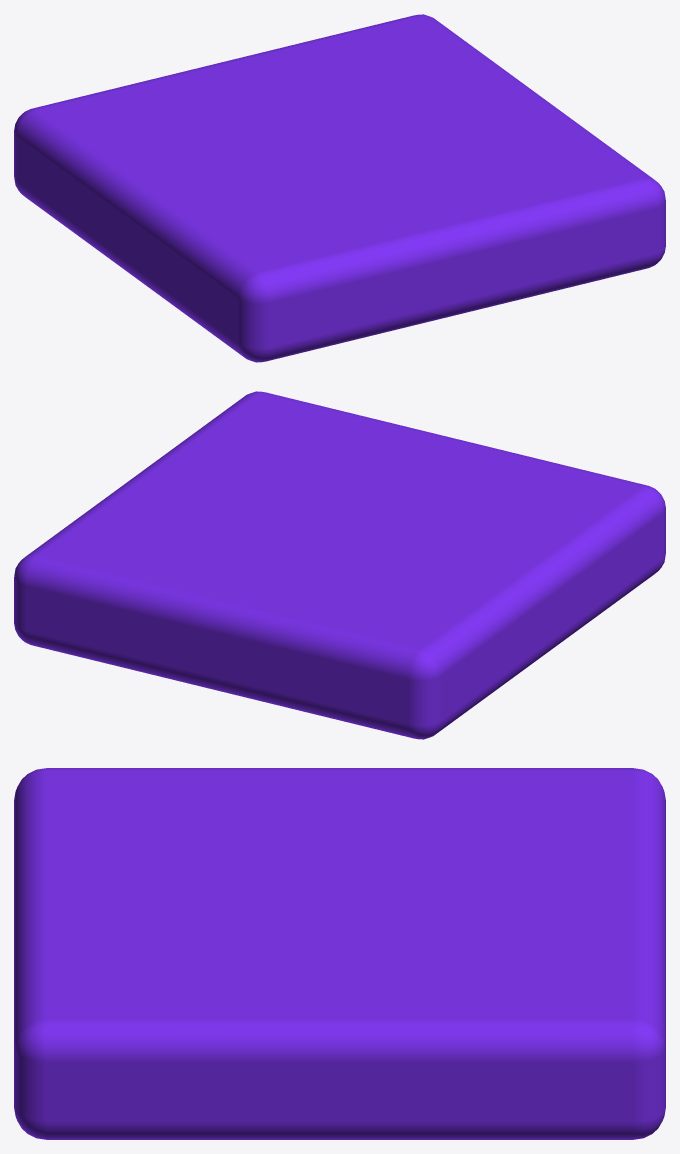
The model's file is platform_slab.glb.
3 views of the same model, one above another, from view 1: azimuth 30°, elevation 25°; view 2: azimuth 150°, elevation 25°; view 3: azimuth 270°, elevation 25° (orthographic). The views are drawn at different scales.
Parts seen in each view (by area): view 1: slab; view 2: slab; view 3: slab.
Boxes of the visible parts, x1,y1,x2,y2 form: slab: (14,14,665,362); slab: (14,391,665,739); slab: (14,768,665,1139).
Bounding box in the file's own units: 1 × 0.2 × 1.
